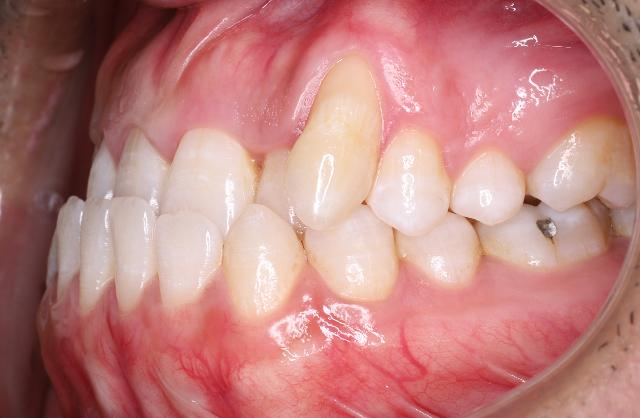canine class III 1/4: (227, 42, 401, 328)
molar class III 1/4: (476, 97, 634, 295)
